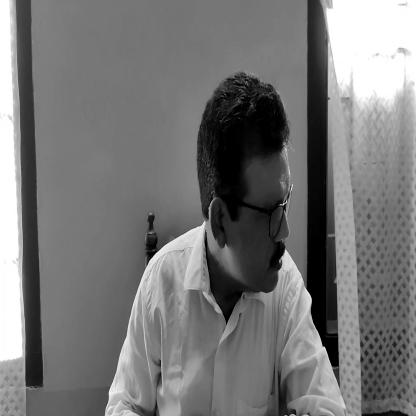Distracted: (199, 75, 293, 296)
